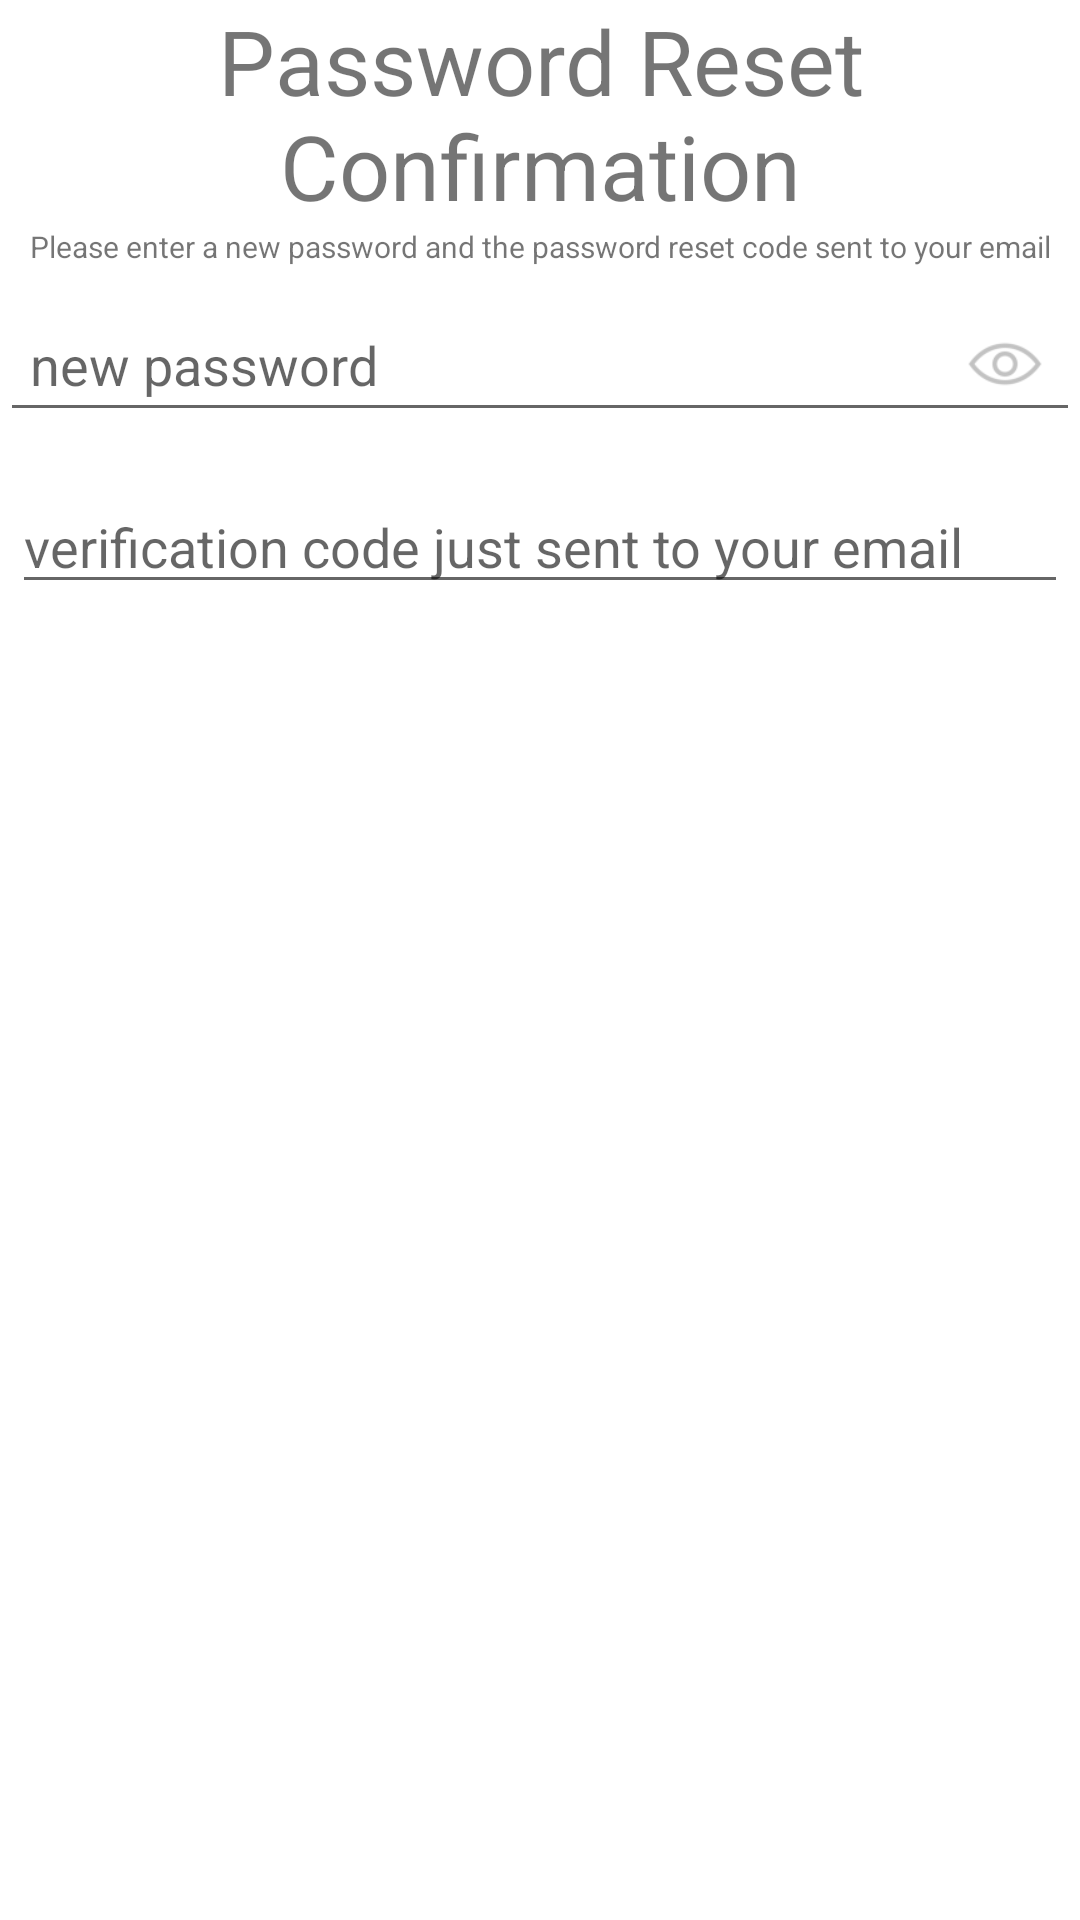

Screen size 1080*1920. Icon name, then its box in pixels as [x1,y1,x2,y2]:
show password: [969,343,1041,385]
